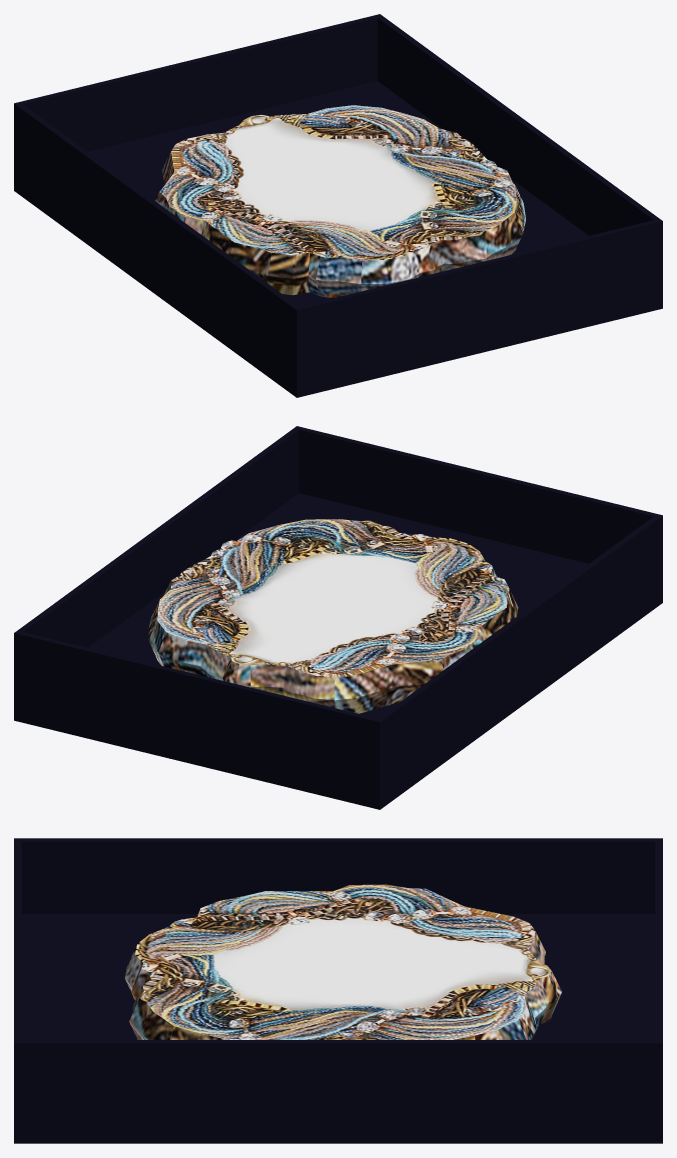
The model's file is jewelry04.FBX.
3 views of the same model, one above another, from view 1: azimuth 30°, elevation 25°; view 2: azimuth 150°, elevation 25°; view 3: azimuth 270°, elevation 25° (orthographic). The views are drawn at different scales.
Visible parts, largest first — view 1: Box001, Line001; view 2: Box001, Line001; view 3: Box001, Line001.
Part boxes in pixels (x1,y1,x2,y2): Box001: (14,14,662,397); Line001: (155,105,525,297); Box001: (14,426,662,809); Line001: (148,519,518,713); Box001: (14,838,662,1143); Line001: (125,884,561,1039).
Size of the model in its own units: 33.68 by 45.08 by 7.7.
2 materials, 1 textured.
